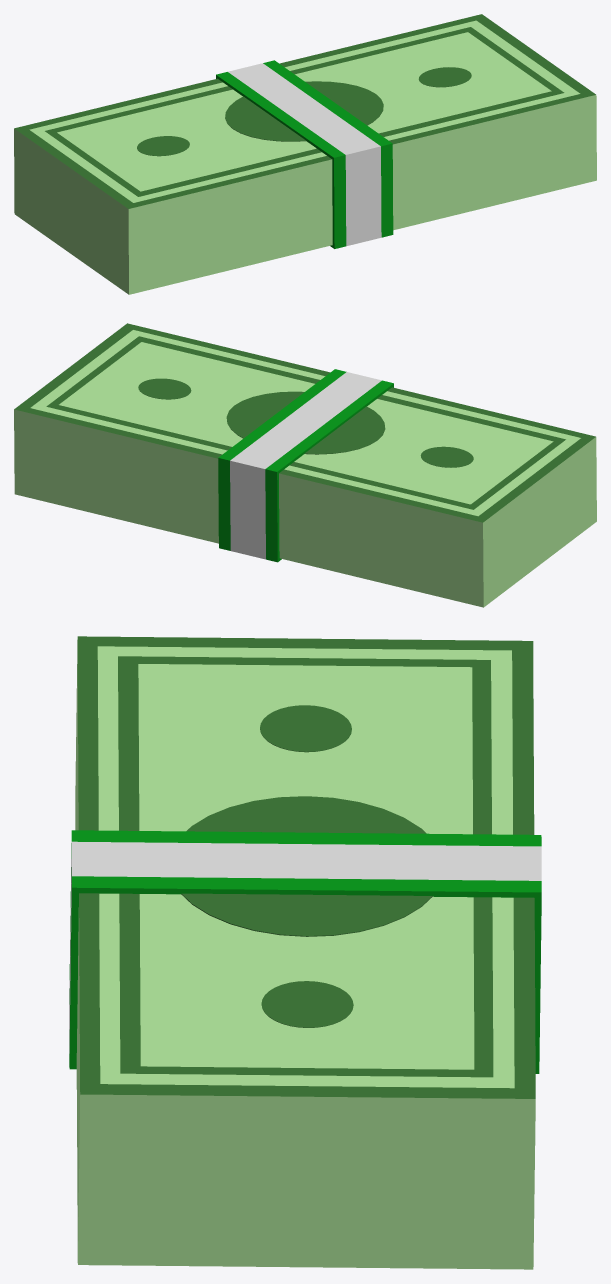
Rendered from money.fbx.
3 views of the same model, one above another, from view 1: azimuth 30°, elevation 25°; view 2: azimuth 150°, elevation 25°; view 3: azimuth 270°, elevation 25° (orthographic). The views are drawn at different scales.
Visible parts, largest first — view 1: Money.008; view 2: Money.008; view 3: Money.008.
Boxes of the visible parts, box(x1,y1,x2,y2) form: Money.008: box(14, 14, 596, 294); Money.008: box(14, 323, 596, 607); Money.008: box(69, 636, 541, 1269).
Bounding box in the file's own units: 0.7324 × 0.1396 × 0.3196.
